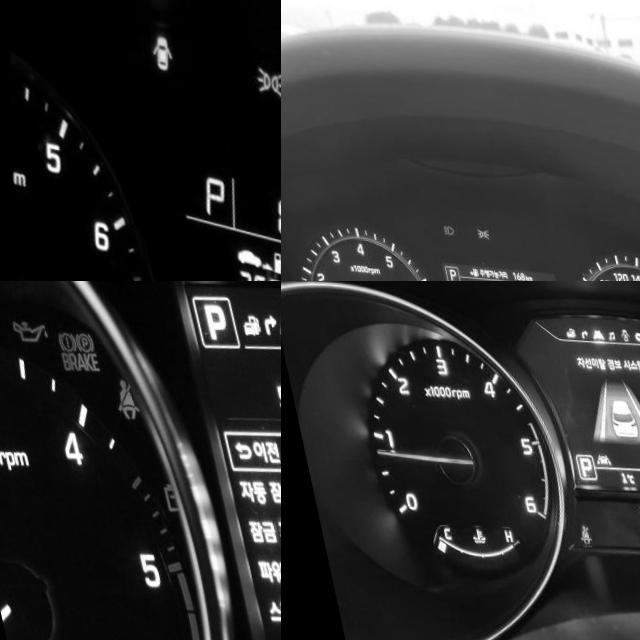Doors: (142, 28, 174, 69)
SideLamp: (246, 58, 281, 93), (462, 223, 476, 234)
